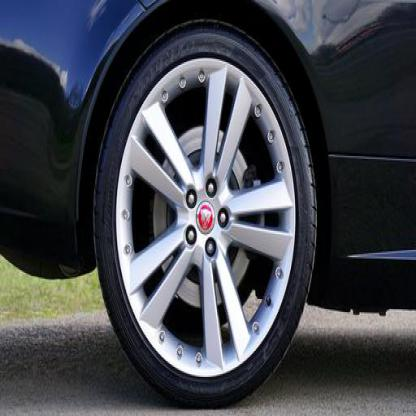Tire: (92, 16, 318, 408)
